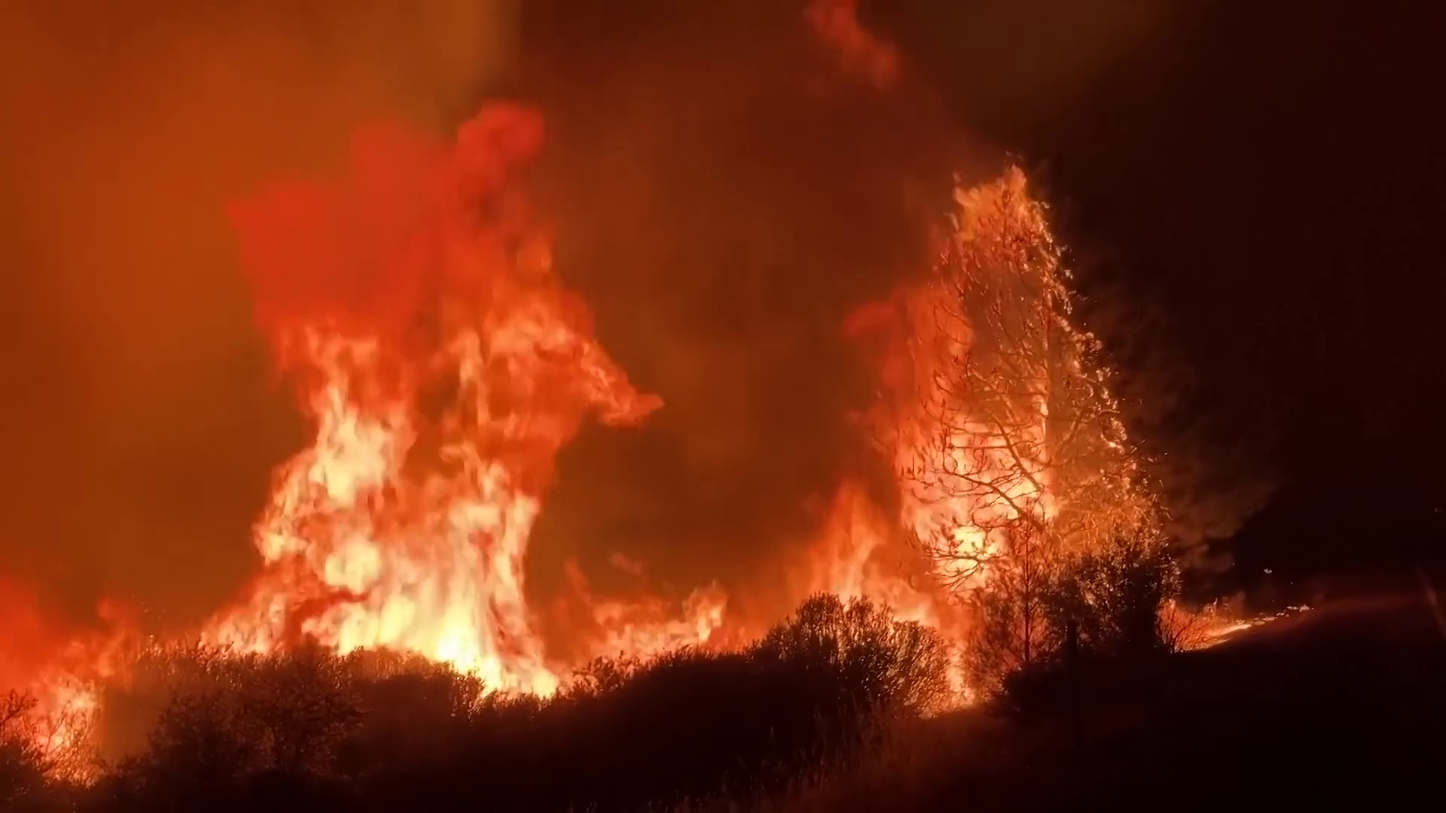forest_fire: (173, 102, 773, 696), (787, 169, 1157, 646), (0, 584, 148, 719), (810, 0, 898, 85), (47, 723, 88, 744), (954, 664, 967, 696), (1022, 618, 1029, 625), (960, 662, 961, 662)
